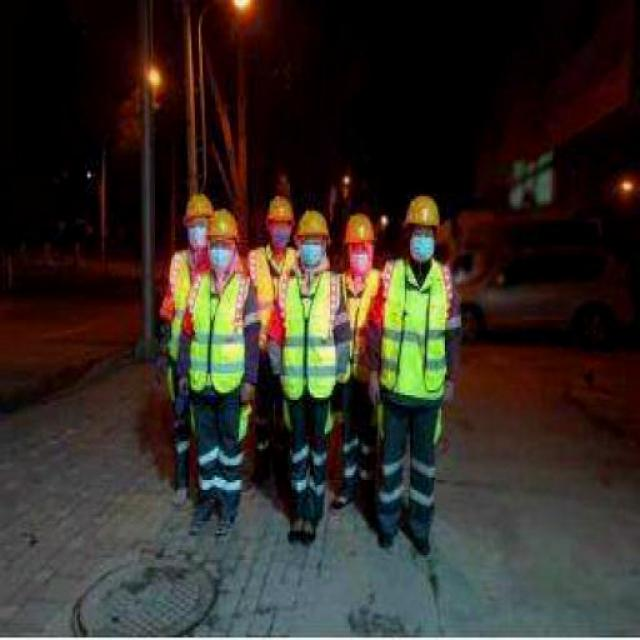face_mask: (407, 226, 438, 260), (207, 236, 235, 270), (298, 236, 328, 265), (186, 216, 210, 250), (347, 242, 372, 272), (270, 218, 292, 247)
head_helmet: (405, 194, 440, 228), (342, 210, 377, 244), (206, 208, 240, 241), (295, 208, 330, 237), (264, 194, 296, 224), (184, 194, 214, 224)
person: (366, 192, 462, 558), (270, 202, 346, 544), (183, 208, 256, 534)
vest: (374, 257, 448, 401), (277, 271, 344, 400), (188, 268, 252, 398), (166, 250, 212, 366), (333, 270, 379, 380), (250, 244, 298, 342)
